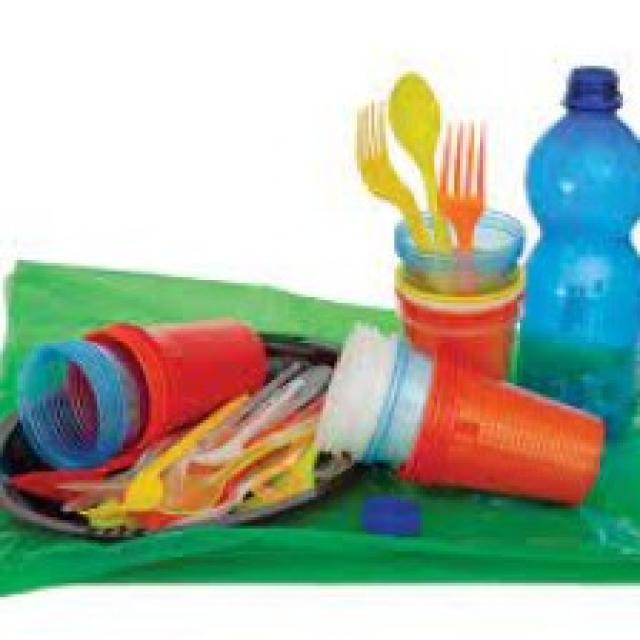plastic: (324, 325, 619, 520), (15, 306, 273, 447), (144, 414, 317, 552), (351, 100, 449, 271)
plastic_bottle: (518, 52, 640, 444)
